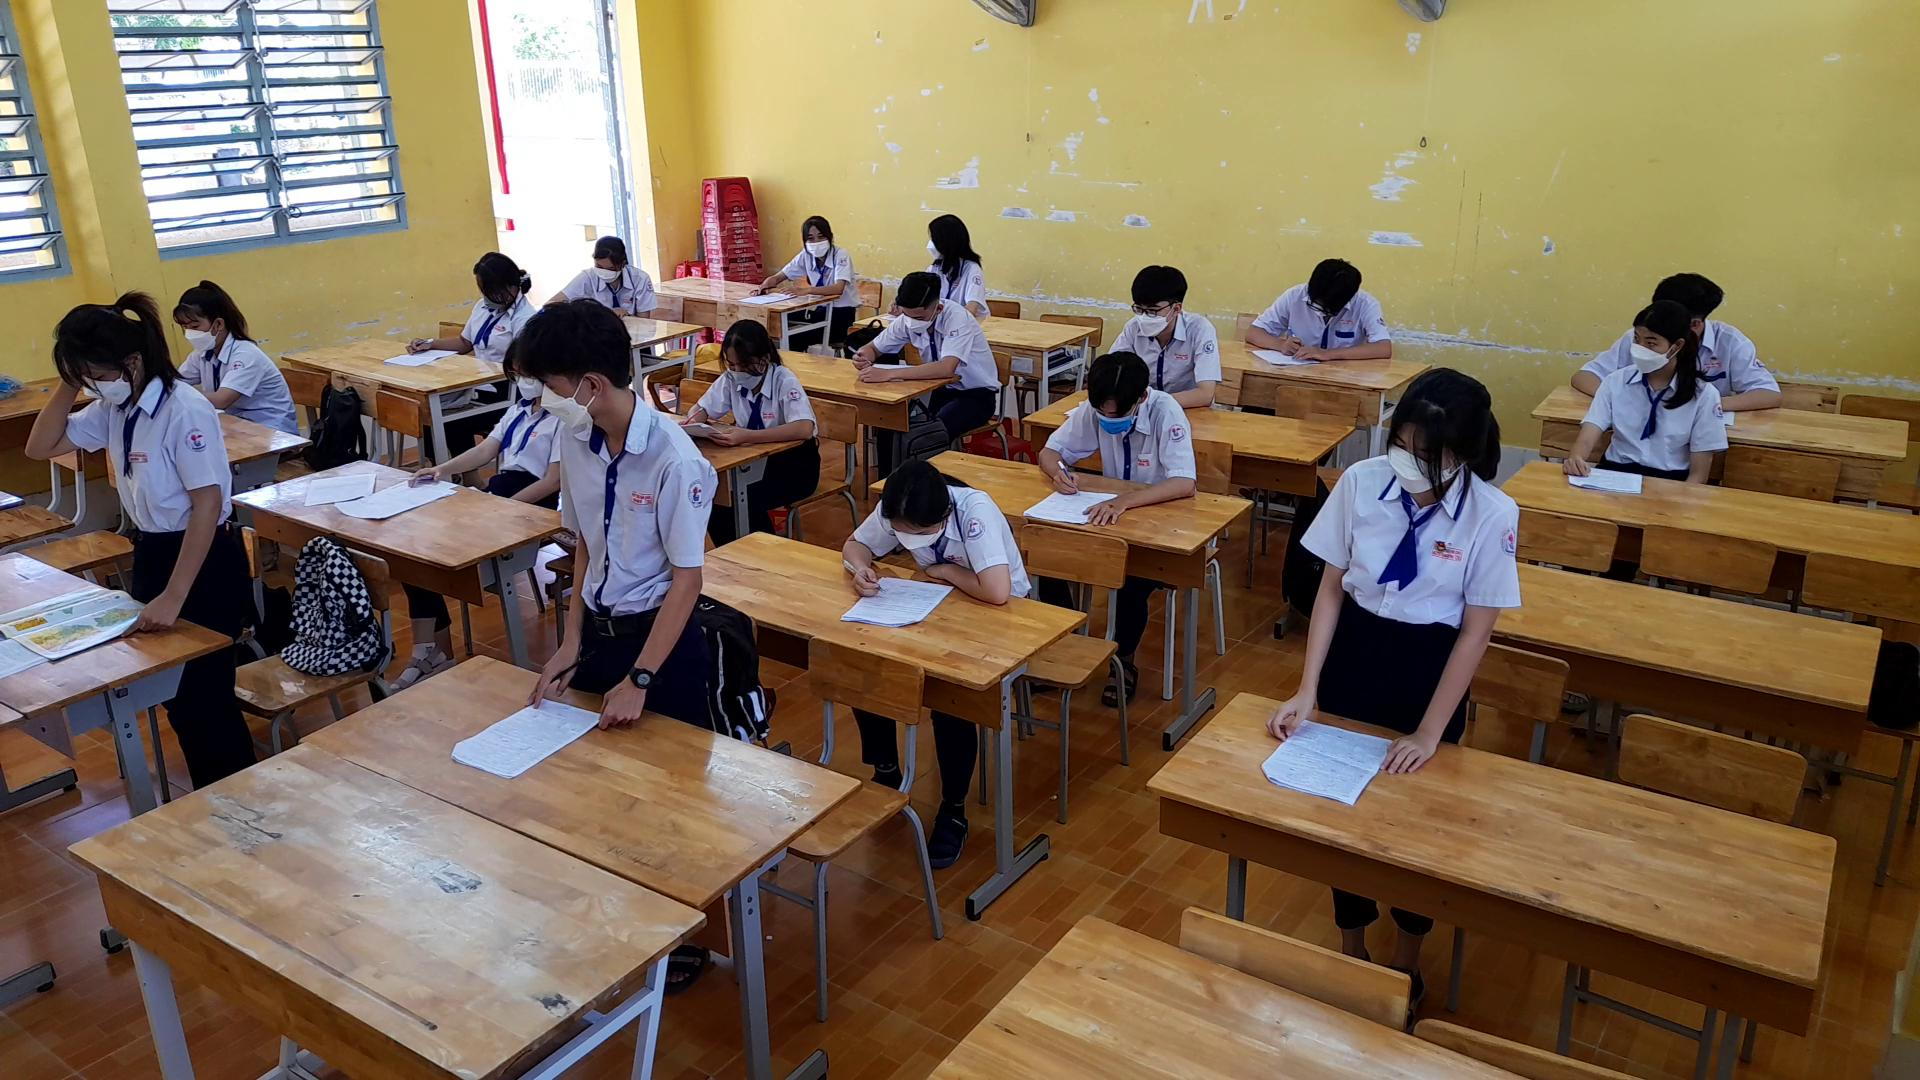Hand Under Table: (1677, 381, 1721, 492)
Look Around: (910, 202, 982, 278), (885, 200, 965, 269)
Normal: (1038, 342, 1211, 535), (833, 448, 1022, 612), (173, 266, 305, 433), (837, 261, 998, 392), (1238, 237, 1399, 368), (680, 313, 818, 450), (407, 243, 530, 372), (546, 218, 666, 316), (741, 207, 861, 306)
Stand Up: (1259, 359, 1528, 785), (502, 291, 716, 735), (18, 297, 233, 632)
